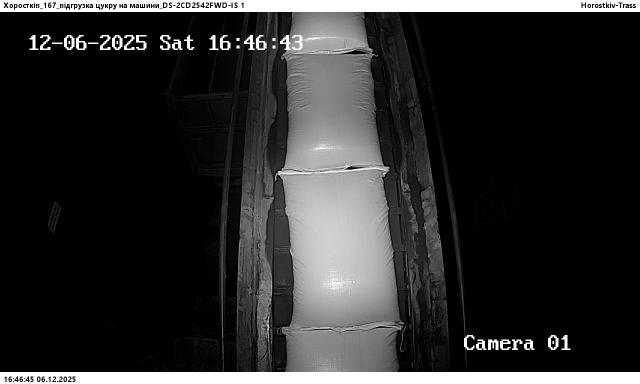bag: (279, 167, 404, 329), (284, 52, 384, 170), (284, 330, 398, 372), (287, 12, 370, 54)
